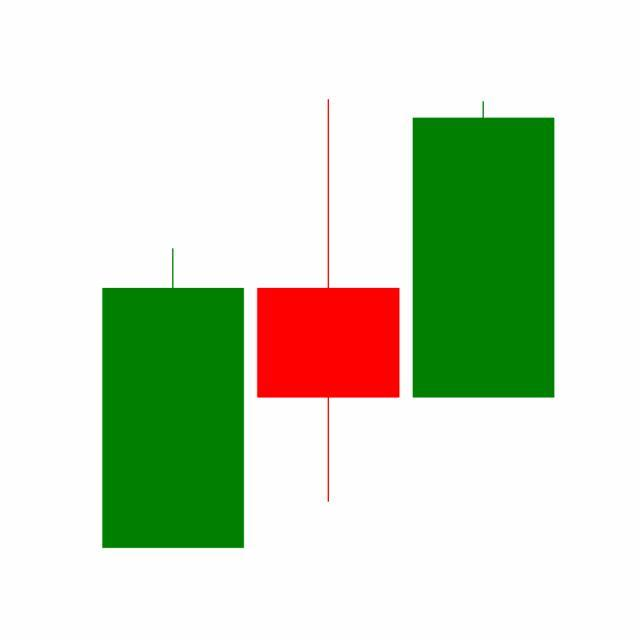Marubozu: (406, 98, 562, 402)
